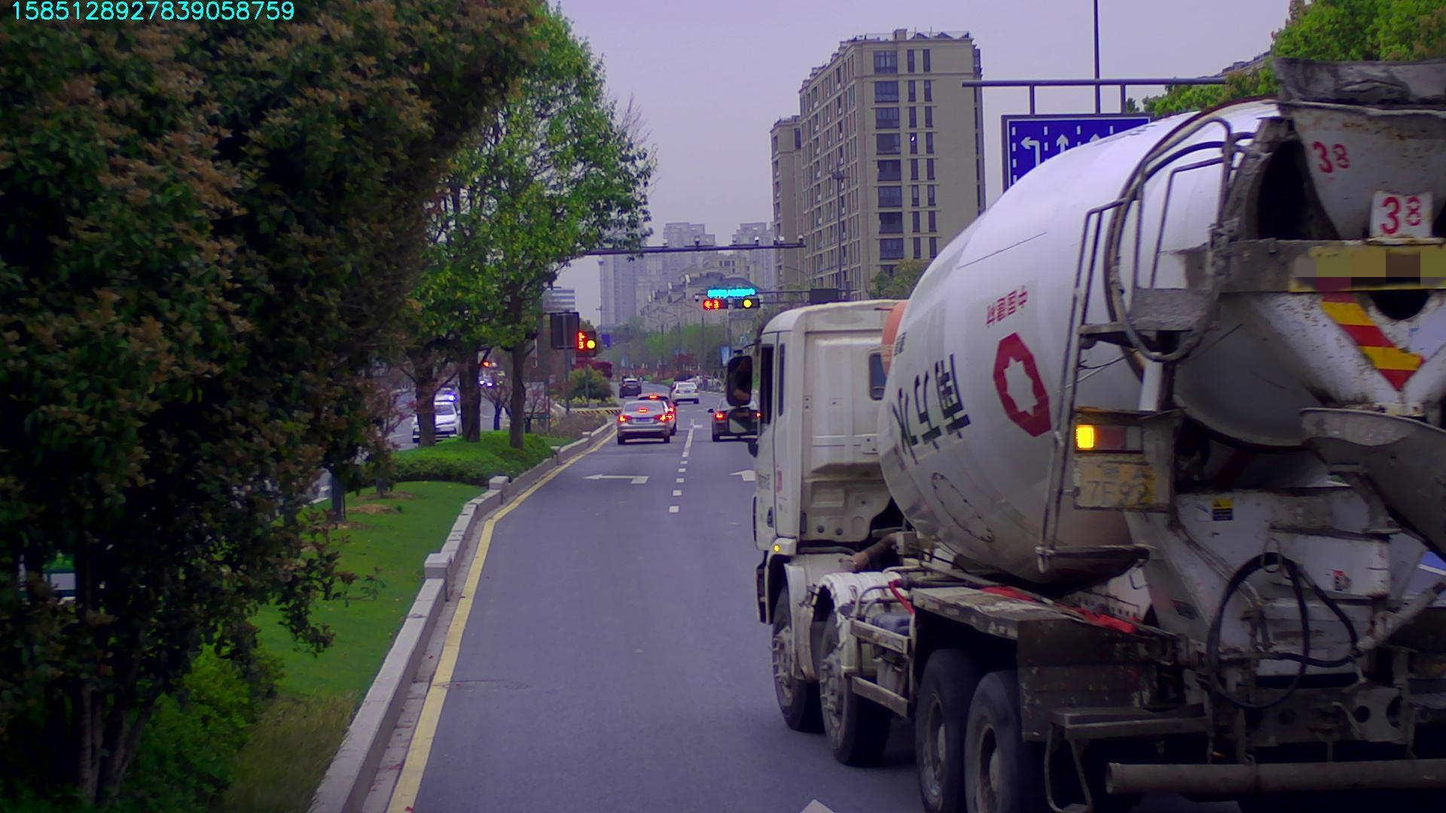red: (697, 297, 725, 308)
wait_on: (704, 284, 758, 297)
yellow: (734, 299, 762, 310)
